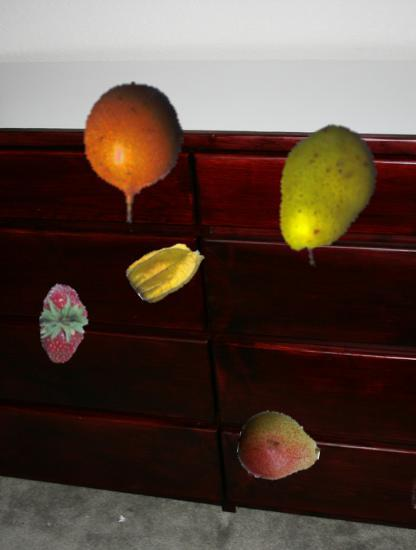Granadilla: (59, 82, 209, 232)
Pear: (252, 122, 398, 268), (238, 406, 321, 489)
Physalis: (128, 230, 206, 308)
Strawberry: (24, 283, 105, 364)
